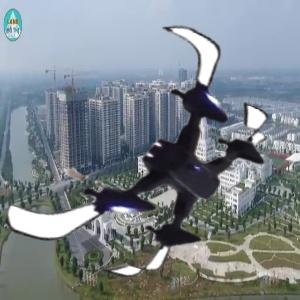drone: (28, 21, 297, 290)
